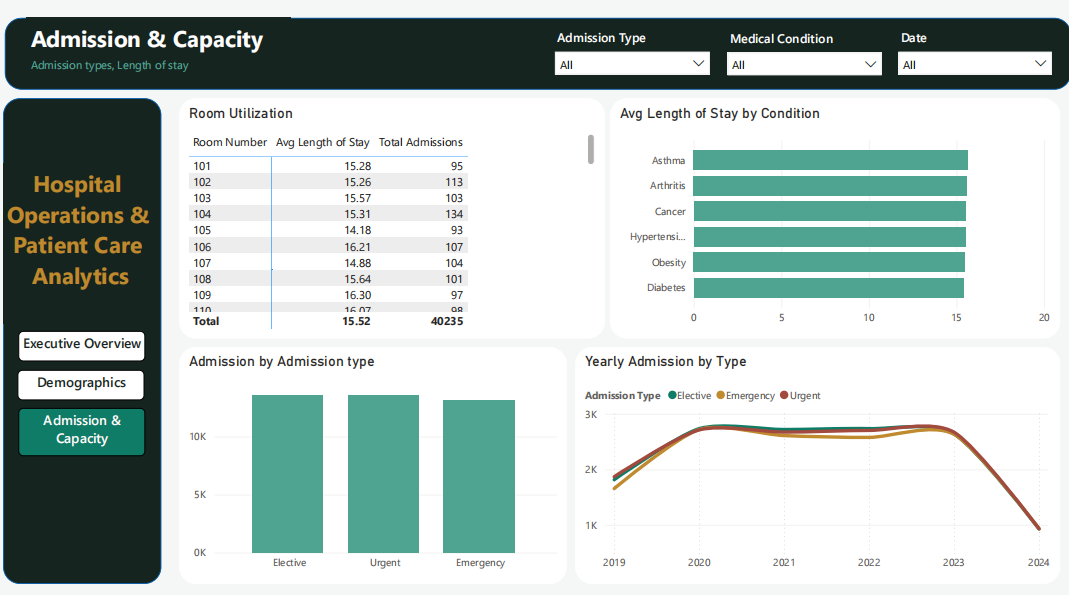

Layout of this report page (visuals, bound fields, positions):
{"tool":"powerbi","page":{"name":"Admission & Capacity","canvas":[1280,720],"ordinal":2},"visuals":[{"type":"clusteredColumnChart","title":"Admission by Admission type","fields":{"Category":["Patients.Admission Type"],"Y":["Measures (2).Total Admissions"]},"box":[216.3,411.6,457.9,280.3],"z":0},{"type":"barChart","title":"Avg Length of Stay by Condition","fields":{"Category":["Patients.Medical Condition"],"Y":["Measures (2).Avg Length of Stay"]},"box":[725,118.1,531.9,283.6],"z":1000},{"type":"lineChart","title":"Yearly Admission by Type","fields":{"Category":["Date.Year"],"Series":["Patients.Admission Type"],"Y":["Measures (2).Total Admissions"]},"box":[684.1,411.6,572.7,280.3],"z":2000},{"type":"pivotTable","title":"Room Utilization","fields":{"Rows":["Patients.Room Number"],"Values":["Measures (2).Avg Length of Stay","Measures (2).Total Admissions"]},"box":[216.3,118.1,503.2,283.6],"z":3000},{"type":"shape","box":[9.9,23.2,1260.2,84.7],"z":4000},{"type":"textbox","box":[36.4,23.2,311.2,49.7],"z":5000},{"type":"textbox","box":[36.4,65.1,254.9,32],"z":6000},{"type":"slicer","fields":{"Values":["Patients.Admission Type"]},"box":[649.9,30.8,203.4,62.7],"z":7000},{"type":"slicer","fields":{"Values":["Patients.Medical Condition"]},"box":[854.4,31.9,201.2,61.6],"z":8000},{"type":"slicer","fields":{"Values":["Date.Date"]},"box":[1055.7,30.8,201.2,61.6],"z":9000},{"type":"shape","box":[8,118,187,574],"z":10000},{"type":"actionButton","title":"Executive Overview","box":[26.4,392.6,149.6,36.3],"z":11000},{"type":"actionButton","title":"Demographics","box":[25.3,438.8,149.6,36.3],"z":12000},{"type":"actionButton","title":"Admission & Capacity","box":[26.4,483.8,149.6,57.2],"z":13000},{"type":"textbox","box":[7.7,195.3,184.3,189.8],"z":14000}]}

Visuals, with their boxes in screenshot pixels (x1, y1, x2, y2), scaled from the page's 1280x720 canvas onto the 1069x595 screenshot:
"Admission by Admission type" clusteredColumnChart: pyautogui.locateOnScreen(181, 340, 563, 572)
"Avg Length of Stay by Condition" barChart: pyautogui.locateOnScreen(605, 98, 1050, 332)
"Yearly Admission by Type" lineChart: pyautogui.locateOnScreen(571, 340, 1050, 572)
"Room Utilization" pivotTable: pyautogui.locateOnScreen(181, 98, 601, 332)
shape: pyautogui.locateOnScreen(8, 19, 1061, 89)
textbox: pyautogui.locateOnScreen(30, 19, 290, 60)
textbox: pyautogui.locateOnScreen(30, 54, 243, 80)
slicer - Patients.Admission Type: pyautogui.locateOnScreen(543, 25, 713, 77)
slicer - Patients.Medical Condition: pyautogui.locateOnScreen(714, 26, 882, 77)
slicer - Date.Date: pyautogui.locateOnScreen(882, 25, 1050, 76)
shape: pyautogui.locateOnScreen(7, 98, 163, 572)
"Executive Overview" actionButton: pyautogui.locateOnScreen(22, 324, 147, 354)
"Demographics" actionButton: pyautogui.locateOnScreen(21, 363, 146, 393)
"Admission & Capacity" actionButton: pyautogui.locateOnScreen(22, 400, 147, 447)
textbox: pyautogui.locateOnScreen(6, 161, 160, 318)
